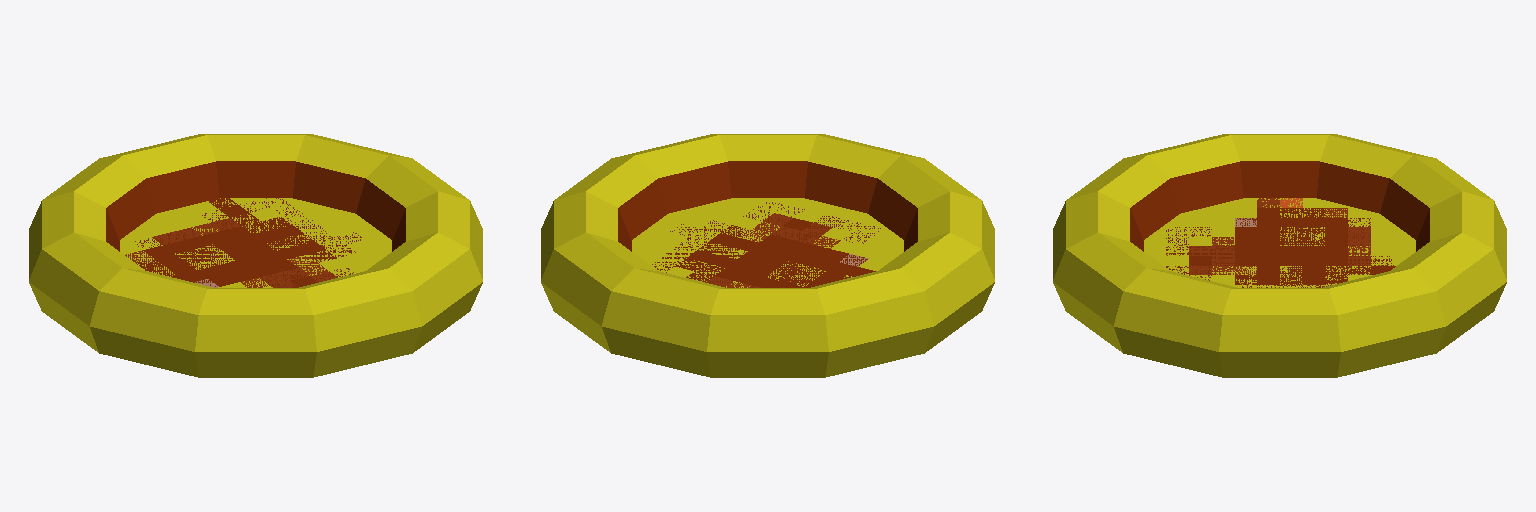
The picture shows the model from 3 angles: view 1: azimuth 30°, elevation 25°; view 2: azimuth 150°, elevation 25°; view 3: azimuth 270°, elevation 25°; orthographic projection.
Parts seen in each view (by area): view 1: cylinder; view 2: cylinder; view 3: cylinder.
Part boxes in pixels (x1,y1,x2,y2): cylinder: (29,134,482,377); cylinder: (541,134,994,377); cylinder: (1053,134,1506,377).
Bounding box in the file's own units: 0.625 × 0.1338 × 0.625.
Materials: 1 (1 with a texture image).